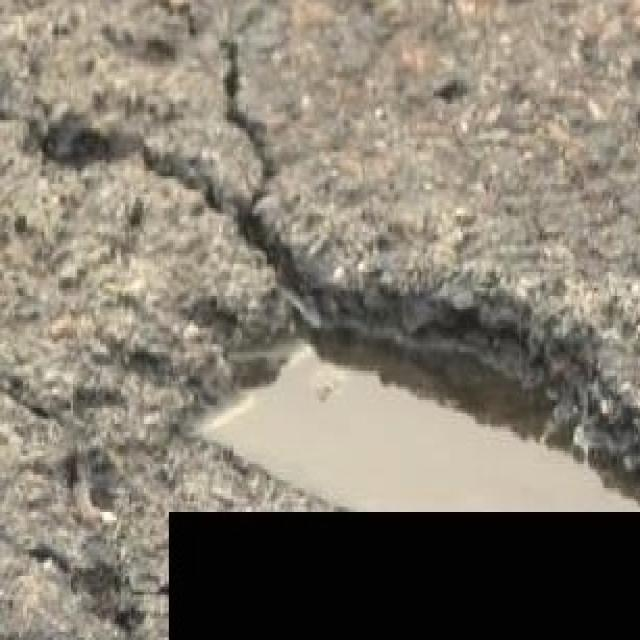road-pothole: (159, 275, 638, 517)
